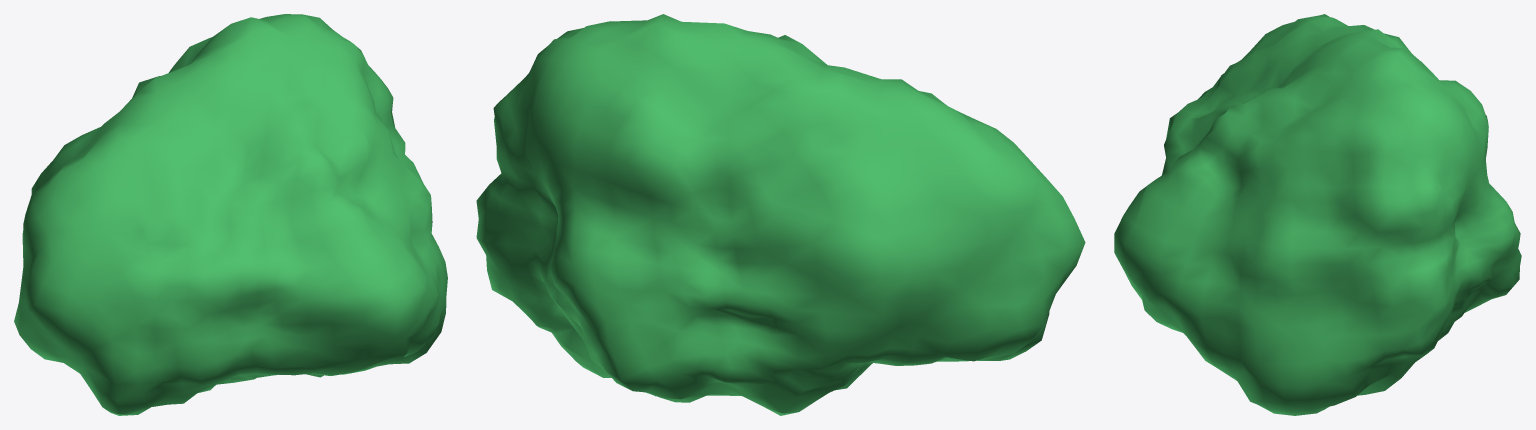
File: Astro.fbx
The picture shows the model from 3 angles, left to right: view 1: azimuth 30°, elevation 25°; view 2: azimuth 150°, elevation 25°; view 3: azimuth 270°, elevation 25°; orthographic projection. The views are drawn at different scales.
Visible parts, largest first — view 1: Cube; view 2: Cube; view 3: Cube.
Boxes of the visible parts, bbox=[...] form: Cube: bbox=[14, 14, 447, 415]; Cube: bbox=[476, 14, 1085, 415]; Cube: bbox=[1114, 14, 1521, 415].
Bounding box in the file's own units: 381 × 285 × 320.
